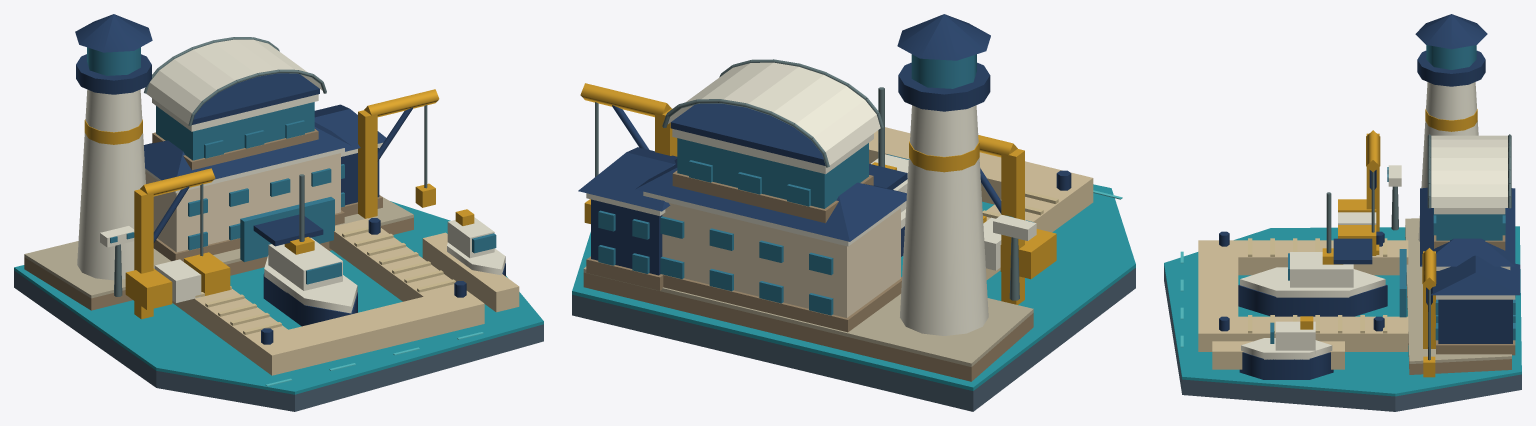
File: port-lv4.glb
3 views of the same model, side by side, from view 1: azimuth 30°, elevation 25°; view 2: azimuth 150°, elevation 25°; view 3: azimuth 270°, elevation 25° (orthographic). The views are drawn at different scales.
Parts seen in each view (by area): view 1: foundation_water, pier_stone, foundation_slate, lighthouse_white, warehouse_cream, terminal_canopy_white, cranes_ochre, vessel_white, terminal_glass, warehouse_roof_naval, quay_paving, terminal_roof_naval (+26 smaller); view 2: lighthouse_white, foundation_water, warehouse_cream, foundation_slate, terminal_canopy_white, quay_stoneDark, quay_paving, warehouse_roof_naval, terminal_glass, cranes_ochre, pier_stone, terminal_roof_naval (+22 smaller); view 3: foundation_water, pier_stone, vessel_white, vessel_naval, foundation_slate, terminal_canopy_white, warehouse_annex_naval, warehouse_roof_naval, quay_paving, warehouse_annex_roof_naval, lighthouse_white, cranes_ochre (+19 smaller).
Part boxes in pixels (x1,y1,x2,y2): foundation_water: (14, 201, 543, 394); pier_stone: (172, 218, 484, 375); foundation_slate: (14, 270, 543, 411); lighthouse_white: (77, 89, 145, 280); warehouse_cream: (145, 153, 340, 252); terminal_canopy_white: (146, 39, 322, 124); cranes_ochre: (134, 89, 439, 319); vessel_white: (264, 217, 505, 313); terminal_glass: (156, 102, 314, 160); warehouse_roof_naval: (144, 122, 351, 180); quay_paving: (24, 197, 413, 298); terminal_roof_naval: (192, 73, 319, 124); lighthouse_white: (900, 105, 988, 335); foundation_water: (572, 184, 1135, 390); warehouse_cream: (662, 203, 900, 317); foundation_slate: (572, 268, 1135, 411); terminal_canopy_white: (668, 62, 880, 165); quay_stoneDark: (583, 272, 1033, 381); quay_paving: (583, 266, 1033, 366); warehouse_roof_naval: (635, 159, 906, 241); terminal_glass: (677, 138, 868, 208); cranes_ochre: (580, 83, 1024, 304); pier_stone: (869, 127, 1093, 279); terminal_roof_naval: (670, 103, 825, 165); foundation_water: (1164, 226, 1521, 396); pier_stone: (1198, 240, 1408, 351); vessel_white: (1240, 252, 1385, 359); vessel_naval: (1238, 238, 1387, 379); foundation_slate: (1164, 266, 1521, 411); terminal_canopy_white: (1431, 135, 1507, 207); warehouse_annex_naval: (1438, 299, 1512, 343); warehouse_roof_naval: (1420, 187, 1515, 266); quay_paving: (1405, 218, 1511, 363); warehouse_annex_roof_naval: (1431, 255, 1520, 295); lighthouse_white: (1418, 82, 1478, 241); cranes_ochre: (1366, 130, 1436, 348).
Bounding box in the file's own units: 1 × 0.7183 × 0.9036.
